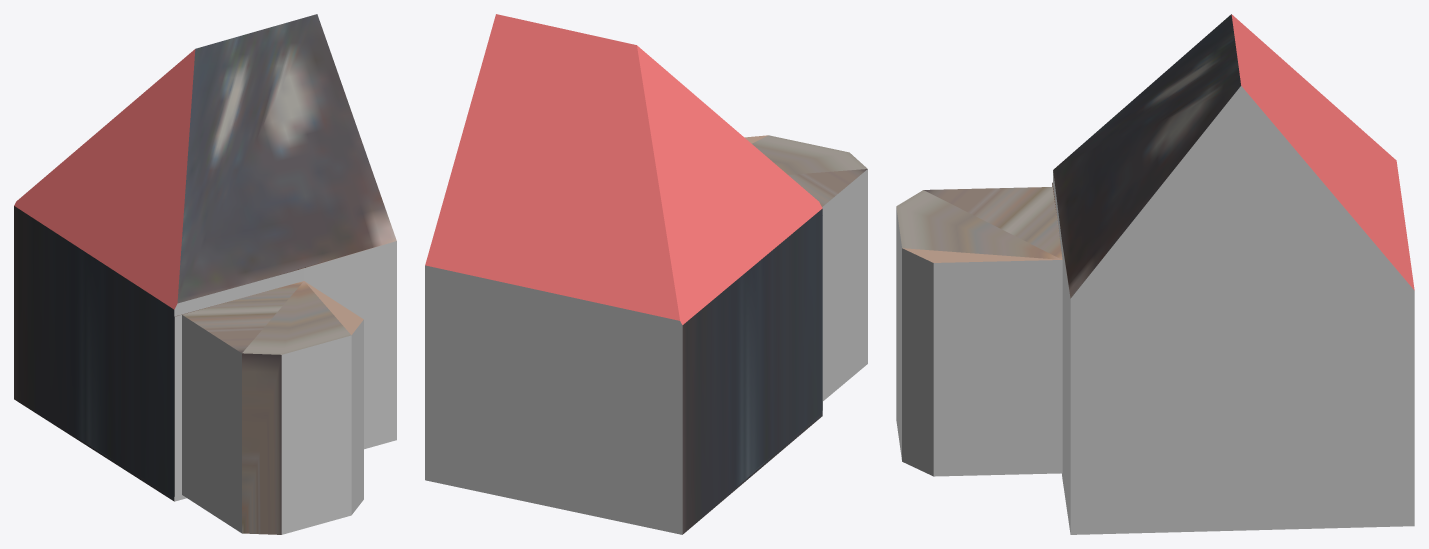
Rendered from DEBW_0010007Txcn.gltf.
3 views of the same model, side by side, from view 1: azimuth 30°, elevation 25°; view 2: azimuth 150°, elevation 25°; view 3: azimuth 270°, elevation 25° (orthographic). The views are drawn at different scales.
Visible parts, largest first — view 1: Z_UP; view 2: Z_UP; view 3: Z_UP.
Boxes of the visible parts, x1,y1,x2,y2 form: Z_UP: (14,14,396,534); Z_UP: (425,14,867,534); Z_UP: (896,14,1414,534).
Size of the model in its own units: 9.19 by 13.44 by 14.19.
3 materials, 1 textured.
